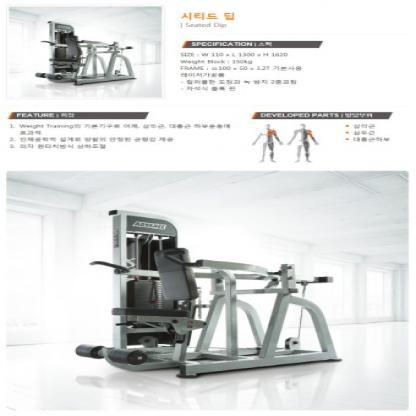seated dip machine: (77, 210, 349, 379)
